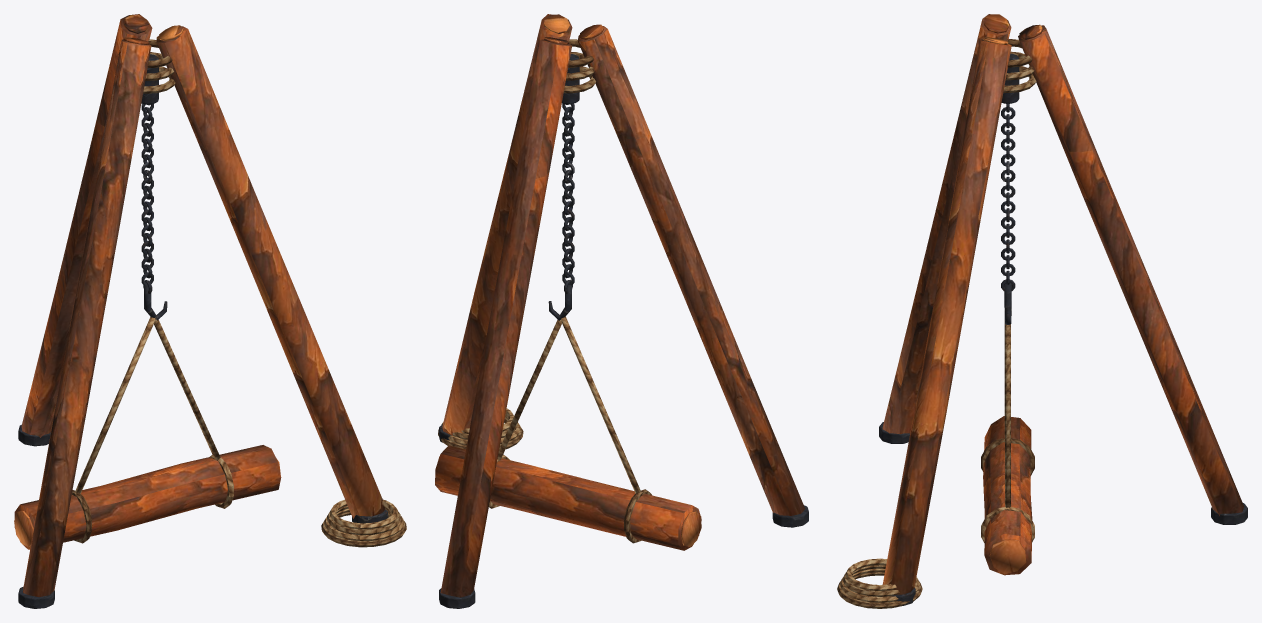
File: mp_hoist_tripod.glb
The picture shows the model from 3 angles, left to right: view 1: azimuth 30°, elevation 25°; view 2: azimuth 150°, elevation 25°; view 3: azimuth 270°, elevation 25°; orthographic projection.
Visible parts, largest first — view 1: model; view 2: model; view 3: model.
Part boxes in pixels (<box>): model: <box>14,14,406,608</box>; model: <box>435,14,808,608</box>; model: <box>837,14,1247,608</box>.
Size of the model in its own units: 1.83 by 2.34 by 1.76.
9 materials, 9 textured.
